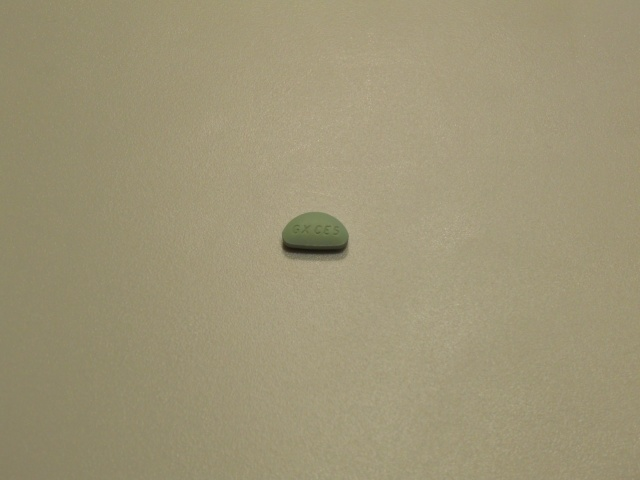5: (332, 225, 342, 236)
C: (313, 224, 322, 236)
E: (322, 224, 331, 236)
G: (291, 224, 302, 236)
X: (301, 224, 312, 236)
